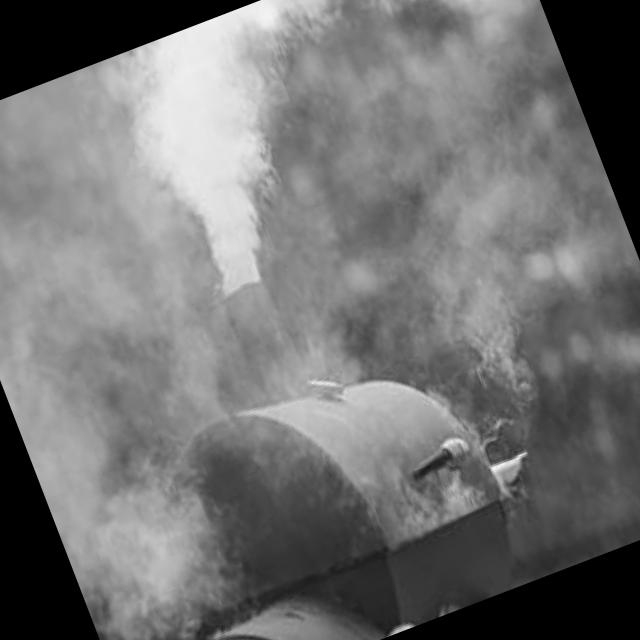smoke: (102, 0, 578, 320), (362, 271, 586, 523)
